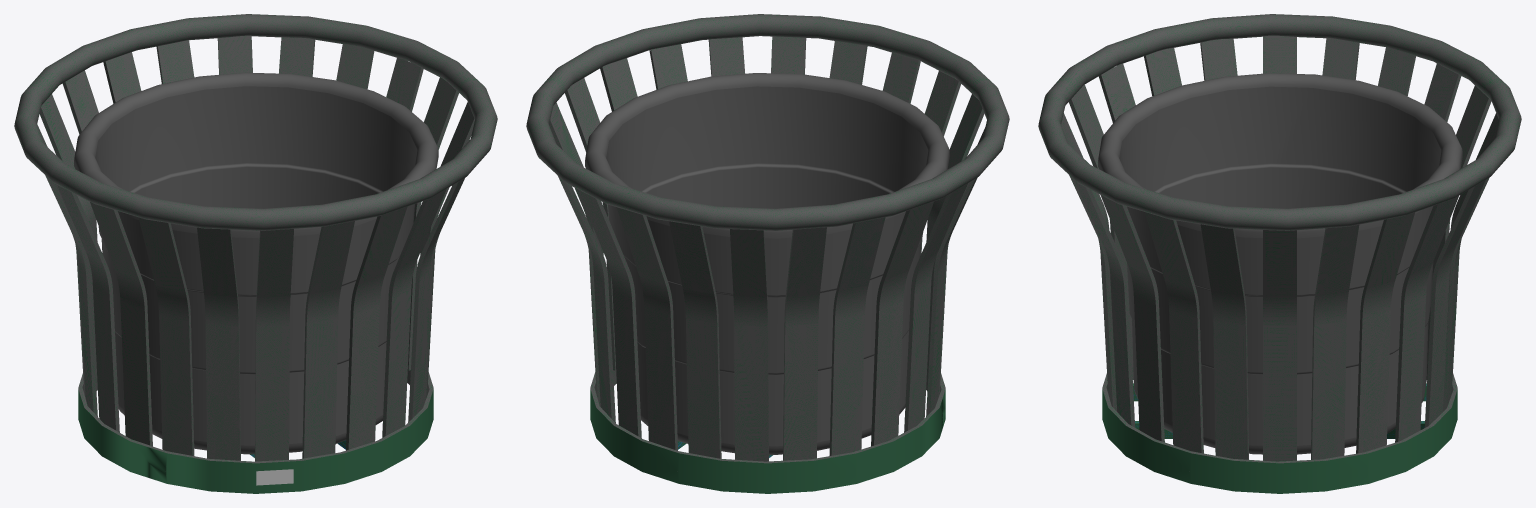
3 views of the same model, side by side, from view 1: azimuth 30°, elevation 25°; view 2: azimuth 150°, elevation 25°; view 3: azimuth 270°, elevation 25° (orthographic).
Visible parts, largest first — view 1: mesh1_mesh1-geometry, mesh7_mesh7-geometry, mesh14_mesh14-geometry, mesh16_mesh16-geometry, mesh9_mesh9-geometry, mesh13_mesh13-geometry, mesh11_mesh11-geometry, mesh25_mesh25-geometry, mesh17_mesh17-geometry, mesh26_mesh26-geometry, mesh4_mesh4-geometry, mesh24_mesh24-geometry (+13 smaller); view 2: mesh1_mesh1-geometry, mesh7_mesh7-geometry, mesh14_mesh14-geometry, mesh23_mesh23-geometry, mesh21_mesh21-geometry, mesh12_mesh12-geometry, mesh10_mesh10-geometry, mesh22_mesh22-geometry, mesh20_mesh20-geometry, mesh15_mesh15-geometry, mesh4_mesh4-geometry, mesh5_mesh5-geometry (+12 smaller); view 3: mesh1_mesh1-geometry, mesh7_mesh7-geometry, mesh14_mesh14-geometry, mesh6_mesh6-geometry, mesh29_mesh29-geometry, mesh27_mesh27-geometry, mesh18_mesh18-geometry, mesh28_mesh28-geometry, mesh5_mesh5-geometry, mesh24_mesh24-geometry, mesh15_mesh15-geometry, mesh26_mesh26-geometry (+13 smaller).
Boxes of the visible parts, x1=… form: mesh1_mesh1-geometry: x1=74, y1=72, x2=438, y2=454; mesh7_mesh7-geometry: x1=14, y1=14, x2=497, y2=230; mesh14_mesh14-geometry: x1=78, y1=370, x2=433, y2=493; mesh16_mesh16-geometry: x1=255, y1=229, x2=293, y2=461; mesh9_mesh9-geometry: x1=197, y1=227, x2=240, y2=460; mesh13_mesh13-geometry: x1=302, y1=221, x2=354, y2=458; mesh11_mesh11-geometry: x1=138, y1=217, x2=194, y2=456; mesh25_mesh25-geometry: x1=346, y1=206, x2=407, y2=450; mesh17_mesh17-geometry: x1=90, y1=202, x2=152, y2=446; mesh26_mesh26-geometry: x1=382, y1=189, x2=446, y2=437; mesh4_mesh4-geometry: x1=57, y1=185, x2=119, y2=432; mesh24_mesh24-geometry: x1=408, y1=178, x2=464, y2=422; mesh1_mesh1-geometry: x1=585, y1=73, x2=949, y2=454; mesh7_mesh7-geometry: x1=526, y1=14, x2=1009, y2=230; mesh14_mesh14-geometry: x1=590, y1=370, x2=945, y2=493; mesh23_mesh23-geometry: x1=730, y1=229, x2=768, y2=461; mesh21_mesh21-geometry: x1=783, y1=227, x2=826, y2=460; mesh12_mesh12-geometry: x1=669, y1=221, x2=721, y2=458; mesh10_mesh10-geometry: x1=829, y1=217, x2=885, y2=455; mesh22_mesh22-geometry: x1=616, y1=207, x2=677, y2=450; mesh20_mesh20-geometry: x1=871, y1=201, x2=933, y2=446; mesh15_mesh15-geometry: x1=577, y1=189, x2=641, y2=438; mesh4_mesh4-geometry: x1=904, y1=183, x2=967, y2=432; mesh5_mesh5-geometry: x1=558, y1=176, x2=615, y2=422; mesh1_mesh1-geometry: x1=1098, y1=73, x2=1462, y2=454; mesh7_mesh7-geometry: x1=1038, y1=14, x2=1521, y2=230; mesh14_mesh14-geometry: x1=1102, y1=366, x2=1457, y2=493; mesh6_mesh6-geometry: x1=1200, y1=224, x2=1248, y2=459; mesh29_mesh29-geometry: x1=1311, y1=224, x2=1359, y2=459; mesh27_mesh27-geometry: x1=1263, y1=230, x2=1296, y2=461; mesh18_mesh18-geometry: x1=1144, y1=212, x2=1203, y2=453; mesh28_mesh28-geometry: x1=1356, y1=212, x2=1414, y2=453; mesh5_mesh5-geometry: x1=1395, y1=196, x2=1458, y2=442; mesh24_mesh24-geometry: x1=1100, y1=195, x2=1164, y2=442; mesh15_mesh15-geometry: x1=1424, y1=180, x2=1485, y2=427; mesh26_mesh26-geometry: x1=1074, y1=180, x2=1135, y2=427.
Size of the model in its own units: 0.6338 by 0.4435 by 0.6338.
